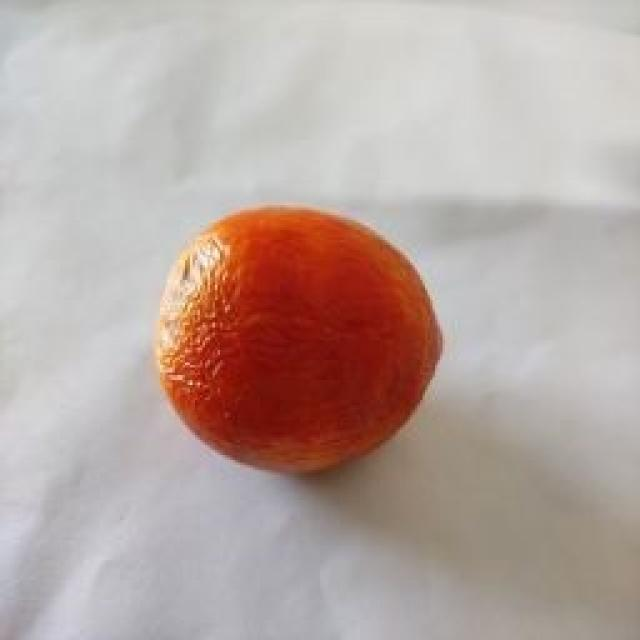overripe: (148, 198, 450, 477)
